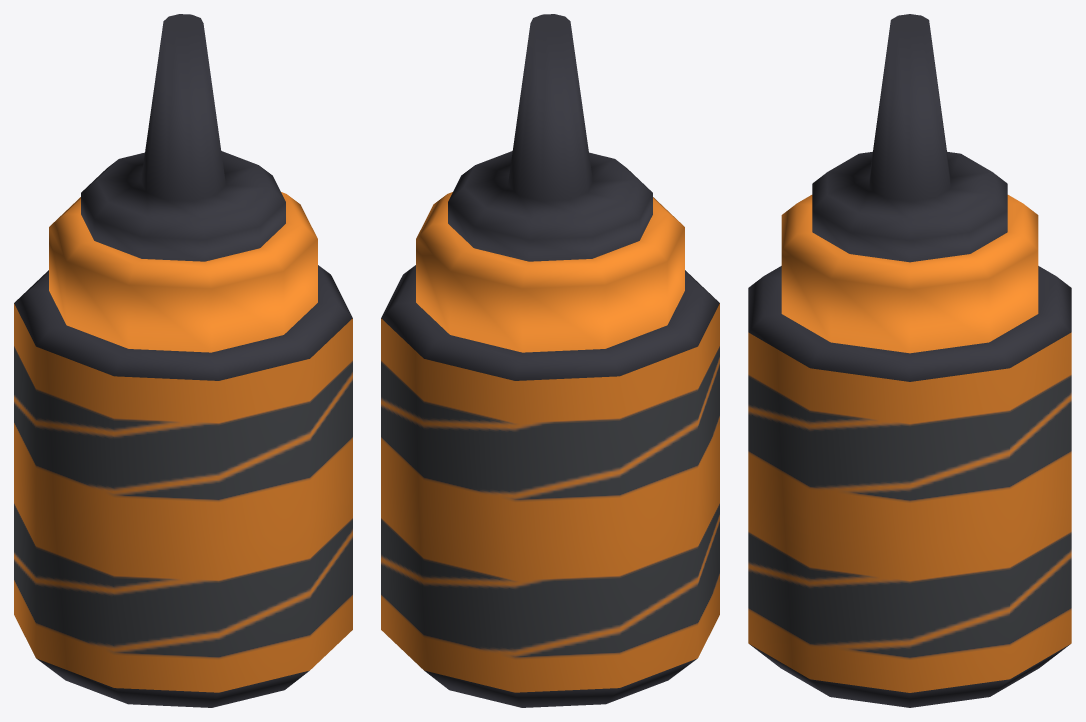
Rendered from Saucer Petit.fbx.
3 views of the same model, side by side, from view 1: azimuth 30°, elevation 25°; view 2: azimuth 150°, elevation 25°; view 3: azimuth 270°, elevation 25° (orthographic).
Visible parts, largest first — view 1: saucer_petit; view 2: saucer_petit; view 3: saucer_petit.
Boxes of the visible parts, x1=… form: saucer_petit: x1=14, y1=14, x2=352, y2=707; saucer_petit: x1=381, y1=14, x2=719, y2=707; saucer_petit: x1=748, y1=14, x2=1071, y2=707.
Size of the model in its own units: 2.84 by 5.79 by 2.7.
1 material, 1 textured.
